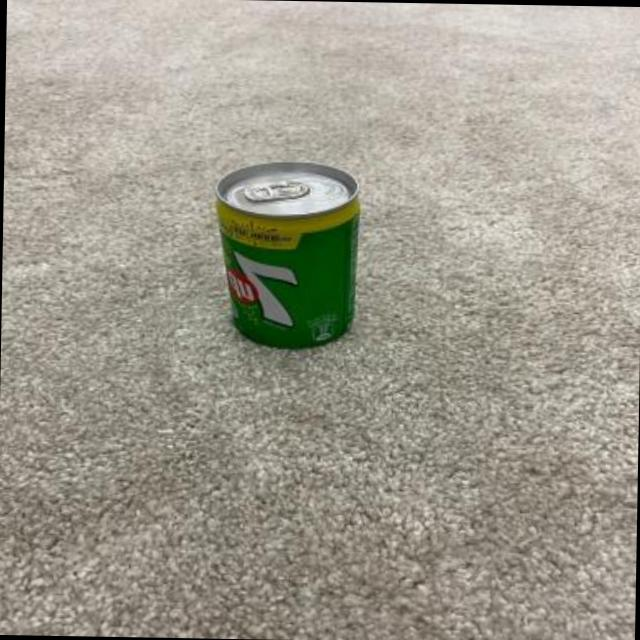metal: (219, 159, 360, 343)
